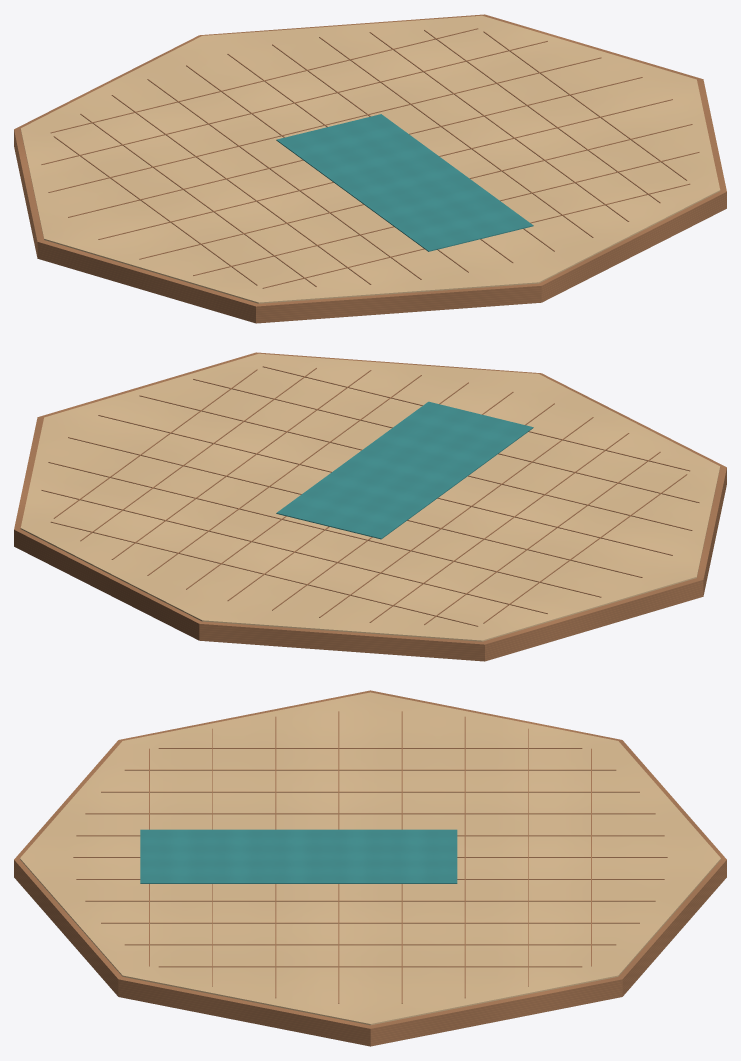
File: atlas100-s095-a07.glb
3 renders of one model, top to bottom at view 1: azimuth 30°, elevation 25°; view 2: azimuth 150°, elevation 25°; view 3: azimuth 270°, elevation 25°, orthographic. The views are drawn at different scales.
Parts seen in each view (by area): view 1: atlas100-s095-a07:part-001, atlas100-s095-a07:part-000, atlas100-s095-a07:part-021, atlas100-s095-a07:part-015, atlas100-s095-a07:part-014, atlas100-s095-a07:part-017, atlas100-s095-a07:part-016, atlas100-s095-a07:part-018, atlas100-s095-a07:part-013, atlas100-s095-a07:part-019, atlas100-s095-a07:part-005, atlas100-s095-a07:part-009 (+3 smaller); view 2: atlas100-s095-a07:part-001, atlas100-s095-a07:part-000, atlas100-s095-a07:part-021, atlas100-s095-a07:part-015, atlas100-s095-a07:part-014, atlas100-s095-a07:part-016, atlas100-s095-a07:part-017, atlas100-s095-a07:part-018, atlas100-s095-a07:part-013, atlas100-s095-a07:part-019, atlas100-s095-a07:part-009, atlas100-s095-a07:part-005 (+3 smaller); view 3: atlas100-s095-a07:part-001, atlas100-s095-a07:part-000, atlas100-s095-a07:part-021, atlas100-s095-a07:part-005, atlas100-s095-a07:part-009, atlas100-s095-a07:part-010, atlas100-s095-a07:part-004, atlas100-s095-a07:part-003, atlas100-s095-a07:part-011, atlas100-s095-a07:part-012.
Part boxes in pixels (x1,y1,x2,y2): atlas100-s095-a07:part-001: (20, 15, 720, 303); atlas100-s095-a07:part-000: (14, 14, 726, 323); atlas100-s095-a07:part-021: (276, 114, 533, 251); atlas100-s095-a07:part-015: (48, 57, 601, 192); atlas100-s095-a07:part-014: (41, 41, 547, 164); atlas100-s095-a07:part-017: (98, 99, 672, 239); atlas100-s095-a07:part-016: (68, 77, 642, 217); atlas100-s095-a07:part-018: (139, 124, 692, 259); atlas100-s095-a07:part-013: (50, 28, 478, 133); atlas100-s095-a07:part-019: (193, 152, 699, 275); atlas100-s095-a07:part-005: (147, 79, 421, 279); atlas100-s095-a07:part-009: (319, 37, 593, 237); atlas100-s095-a07:part-001: (20, 353, 720, 641); atlas100-s095-a07:part-000: (14, 352, 726, 661); atlas100-s095-a07:part-021: (276, 401, 533, 539); atlas100-s095-a07:part-015: (48, 462, 601, 597); atlas100-s095-a07:part-014: (41, 490, 547, 613); atlas100-s095-a07:part-016: (68, 437, 642, 577); atlas100-s095-a07:part-017: (98, 415, 672, 555); atlas100-s095-a07:part-018: (139, 395, 692, 530); atlas100-s095-a07:part-013: (50, 521, 478, 626); atlas100-s095-a07:part-019: (193, 379, 699, 502); atlas100-s095-a07:part-009: (147, 375, 421, 575); atlas100-s095-a07:part-005: (319, 417, 593, 617); atlas100-s095-a07:part-001: (20, 692, 720, 1025); atlas100-s095-a07:part-000: (14, 690, 726, 1046); atlas100-s095-a07:part-021: (140, 829, 457, 883); atlas100-s095-a07:part-005: (85, 813, 655, 814); atlas100-s095-a07:part-009: (85, 900, 655, 901); atlas100-s095-a07:part-010: (101, 922, 639, 923); atlas100-s095-a07:part-004: (101, 791, 639, 792); atlas100-s095-a07:part-003: (124, 769, 616, 770); atlas100-s095-a07:part-011: (124, 944, 616, 945); atlas100-s095-a07:part-012: (158, 966, 582, 967).
Bounding box in the file's own units: 13.95 × 0.404 × 12.42.
3 materials, 3 textured.
